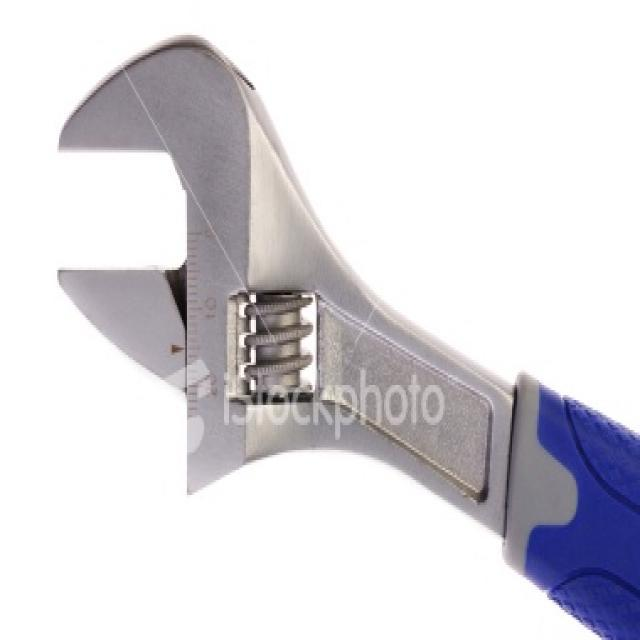wrench: (45, 22, 640, 632)
